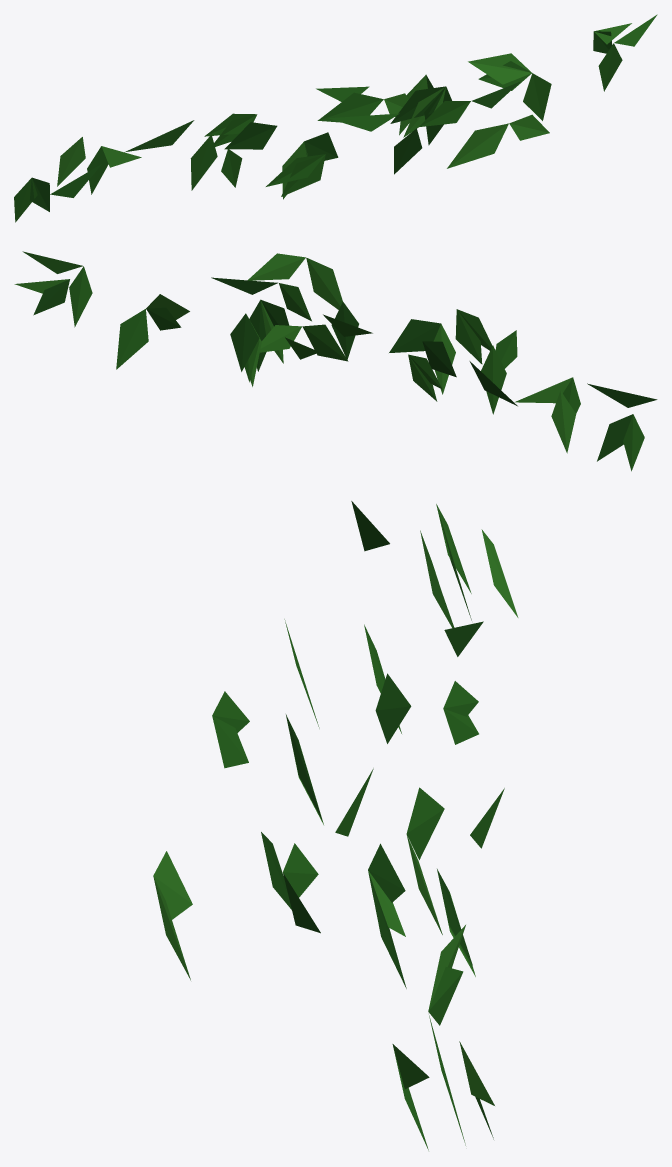
3 renders of one model, top to bottom at view 1: azimuth 30°, elevation 25°; view 2: azimuth 150°, elevation 25°; view 3: azimuth 270°, elevation 25°, orthographic. The views are drawn at different scales.
Parts seen in each view (by area): view 1: r22c4_l11; view 2: r22c4_l11; view 3: r22c4_l11.
Boxes of the visible parts, x1,y1,x2,y2 form: r22c4_l11: (14,14,657,222); r22c4_l11: (14,251,657,471); r22c4_l11: (153,501,518,1150).
Size of the model in its own units: 1.74 by 0.2471 by 0.4391.
